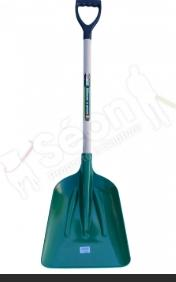PELLE: (38, 0, 154, 275)
